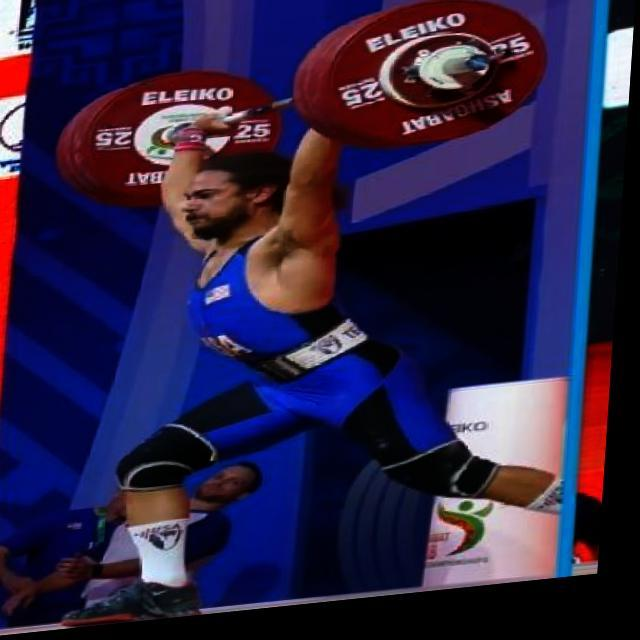barbell: (322, 1, 555, 169)
